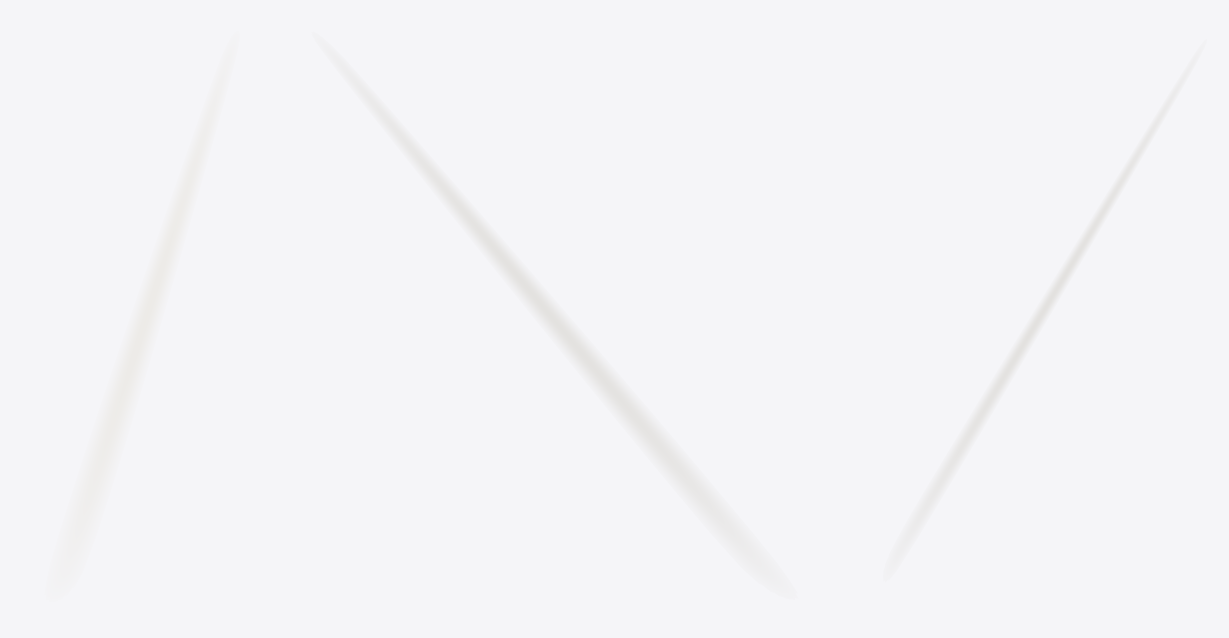
The model's file is beam.glb.
The picture shows the model from 3 angles, left to right: view 1: azimuth 30°, elevation 25°; view 2: azimuth 150°, elevation 25°; view 3: azimuth 270°, elevation 25°; orthographic projection. The views are drawn at different scales.
Size of the model in its own units: 9.25 by 12 by 4.56.
